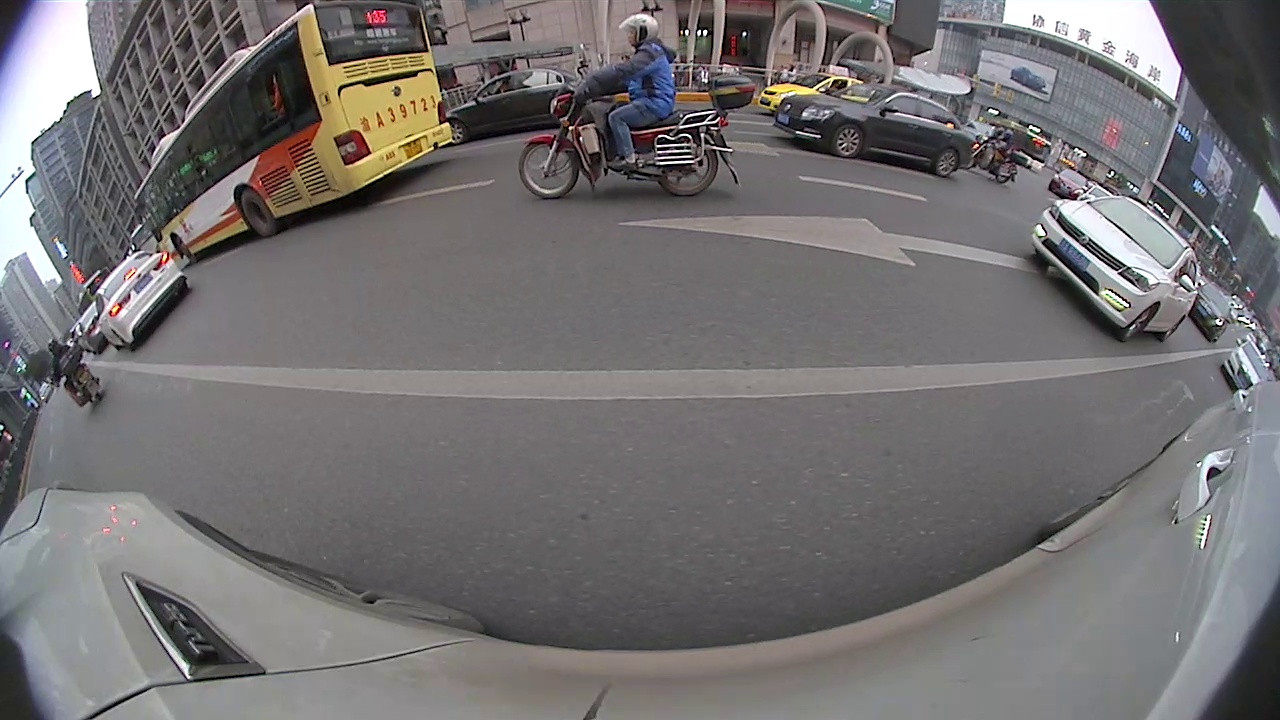bus: (129, 3, 457, 269)
car: (1024, 194, 1201, 347), (772, 76, 973, 186), (444, 60, 594, 147), (87, 247, 193, 358), (1181, 278, 1237, 343), (1218, 339, 1274, 399)
front: (519, 134, 582, 199), (1118, 304, 1158, 342), (830, 125, 863, 161), (444, 117, 468, 146)
rear: (657, 151, 720, 198), (236, 188, 278, 237), (931, 146, 960, 179)
rider: (518, 13, 747, 204), (43, 338, 106, 413), (969, 129, 1019, 184)
